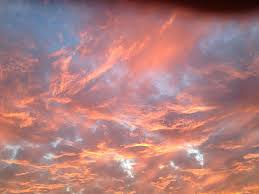sky: (2, 2, 259, 192)
